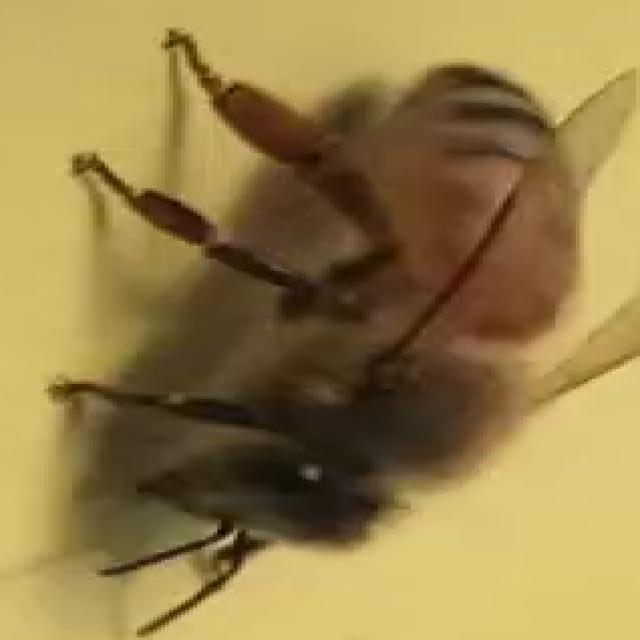honeybee: (92, 32, 640, 637)
